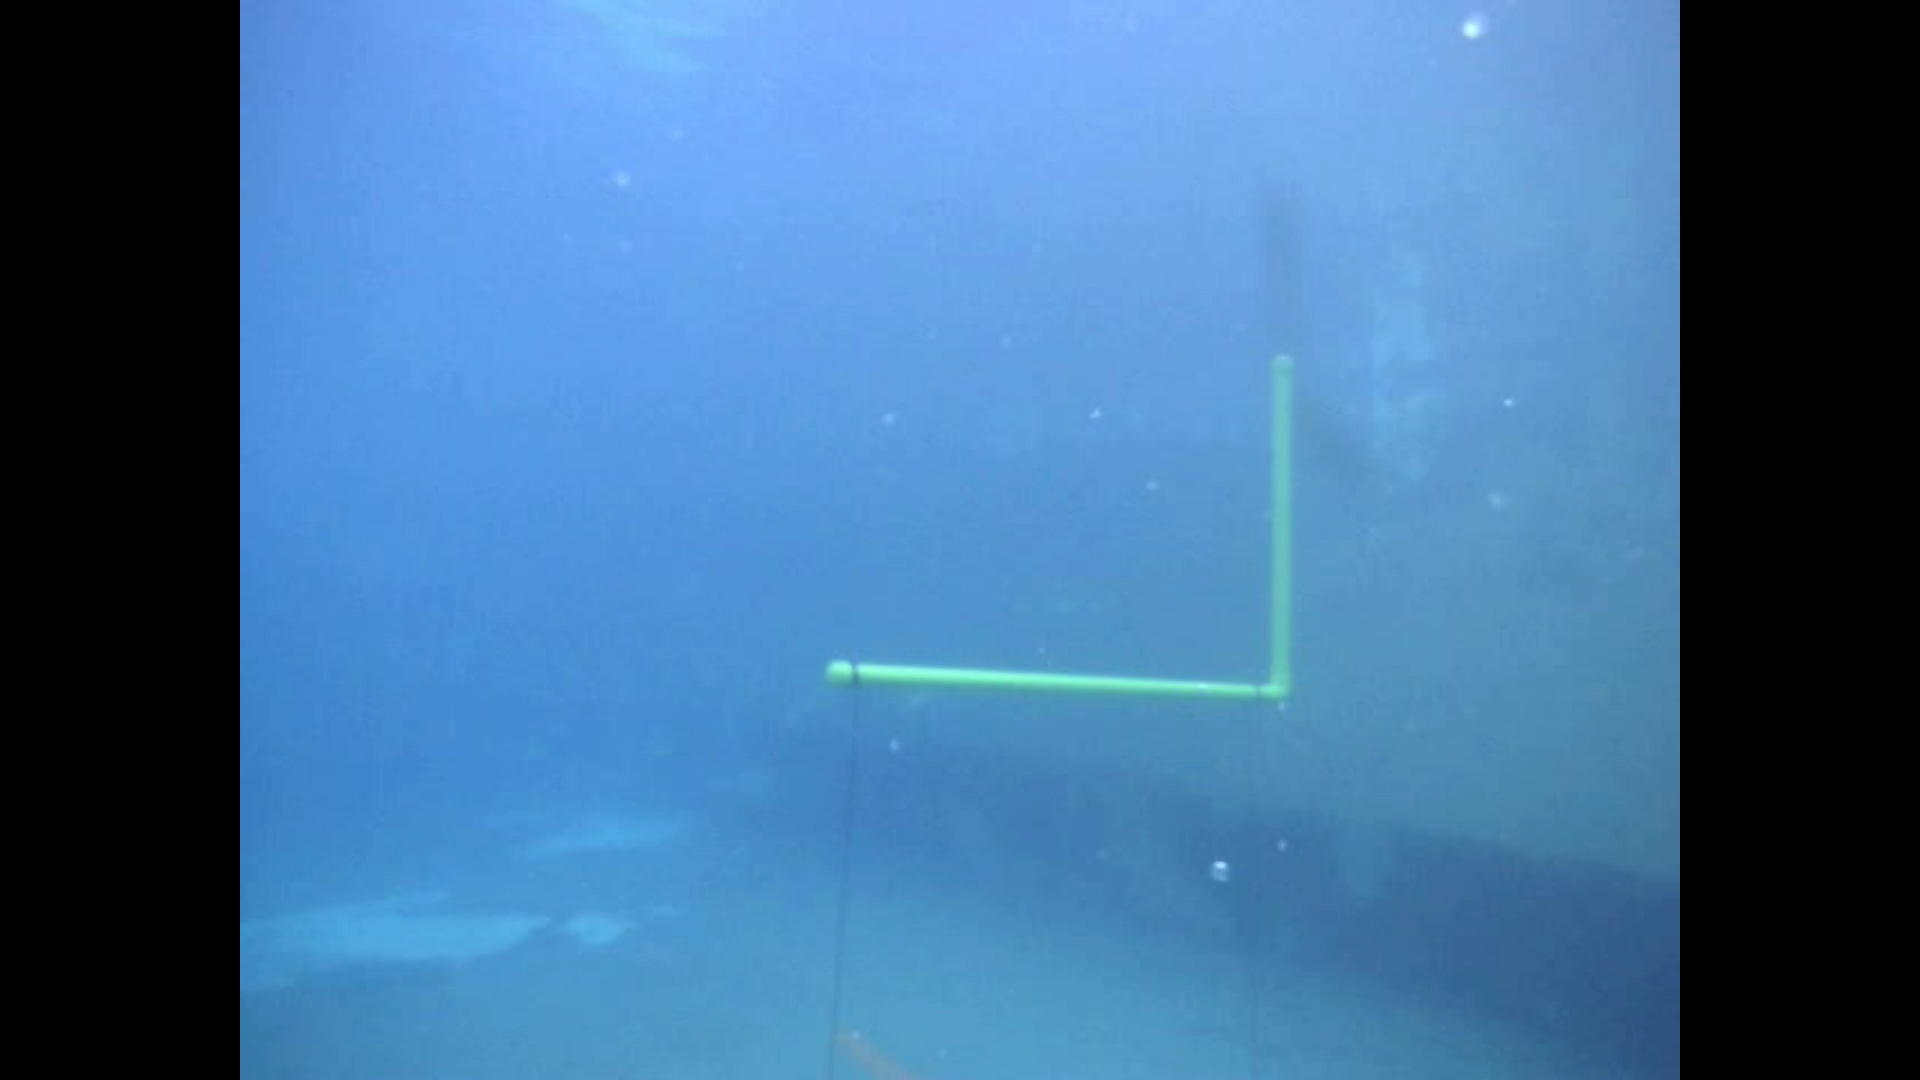gate: (827, 345, 1303, 704)
